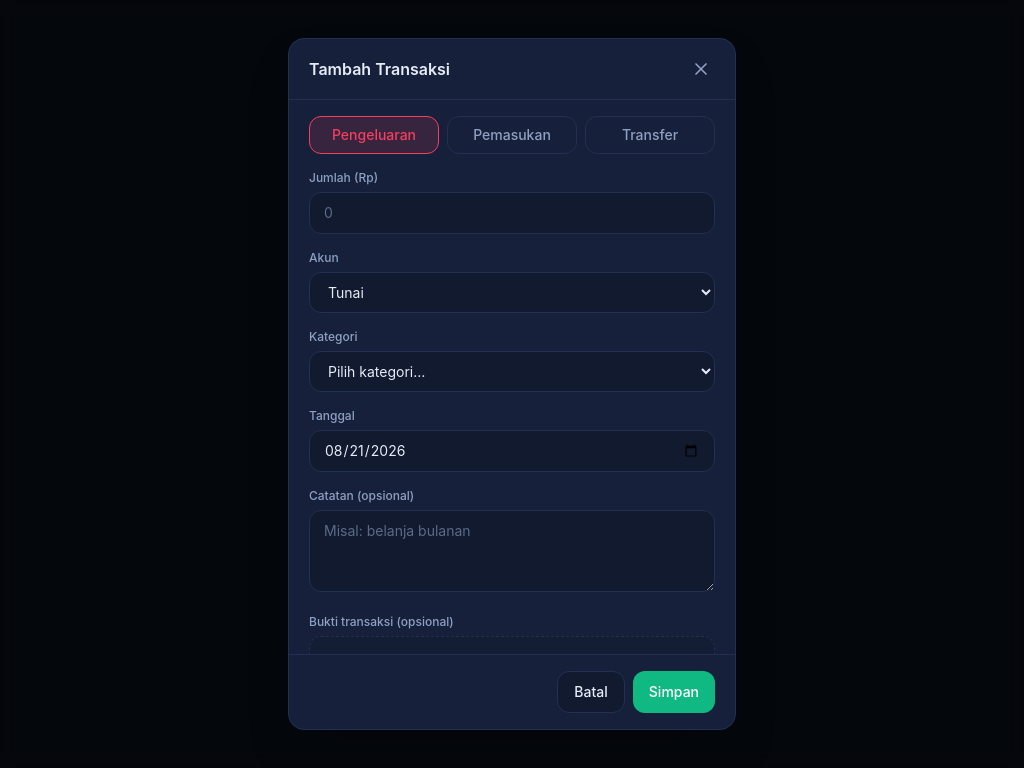
it: TransactionForm › submits a transfer with null category and receipt
Click the button "Transfer" at (650, 135), box [585,116,715,154]
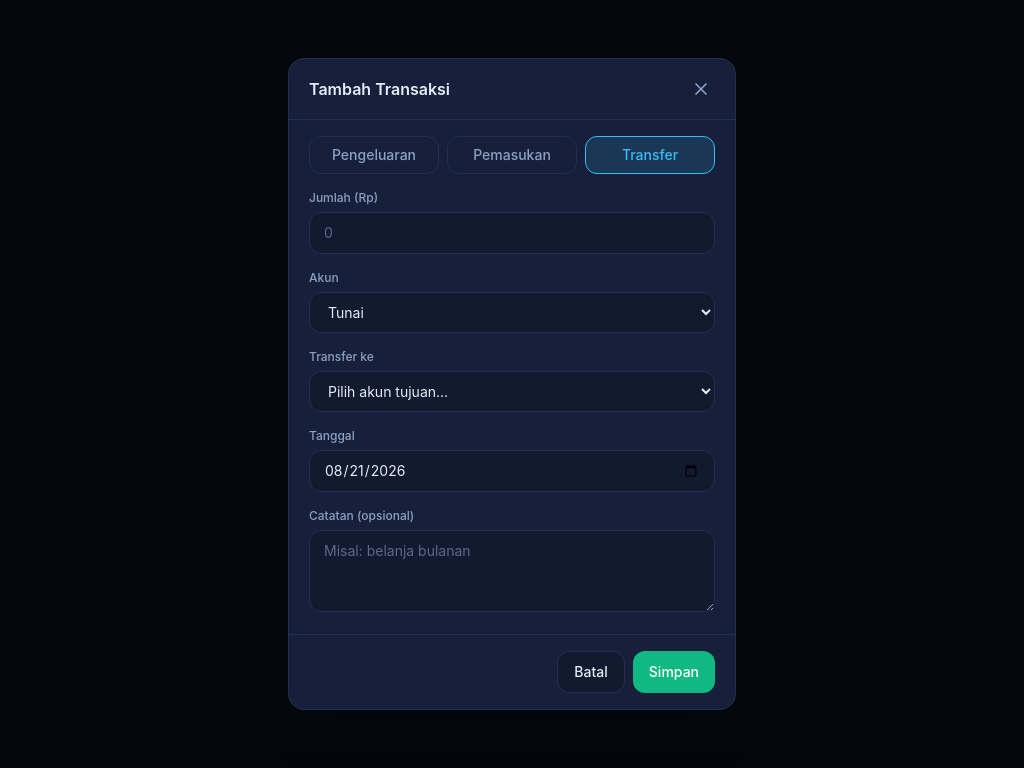
Type "500000" into the field labelled "Jumlah (Rp)" at (512, 233), box [309,212,715,254]
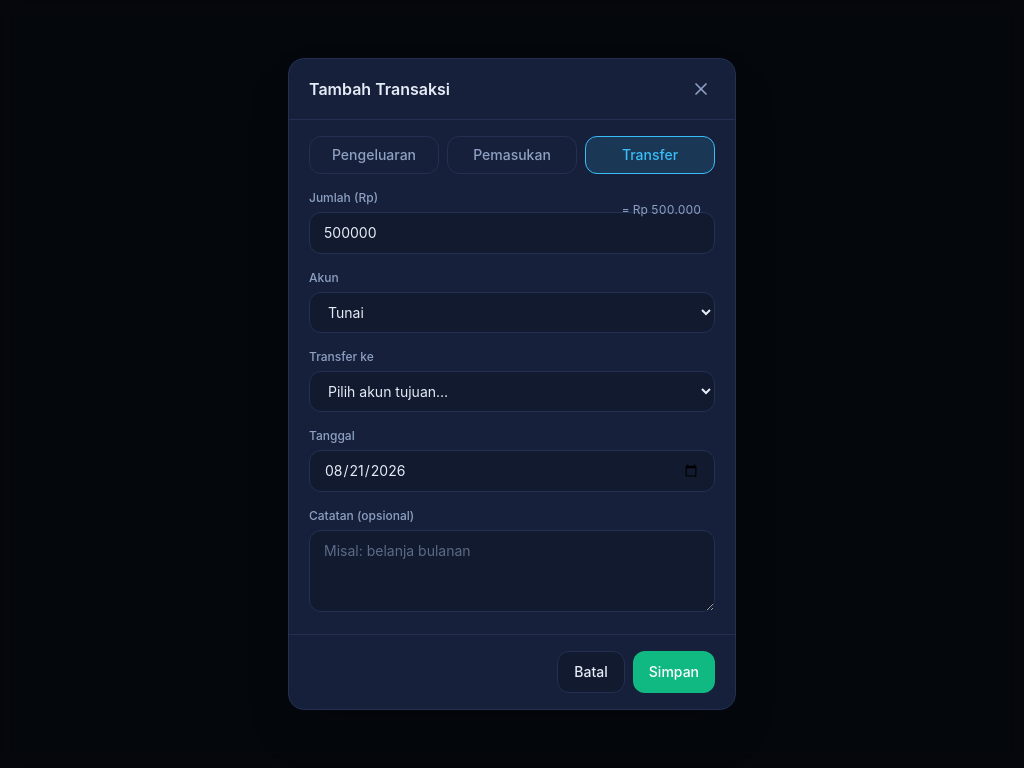
Select "BCA" in the dropdown labelled "Transfer ke" at (512, 392), box [309,371,715,412]
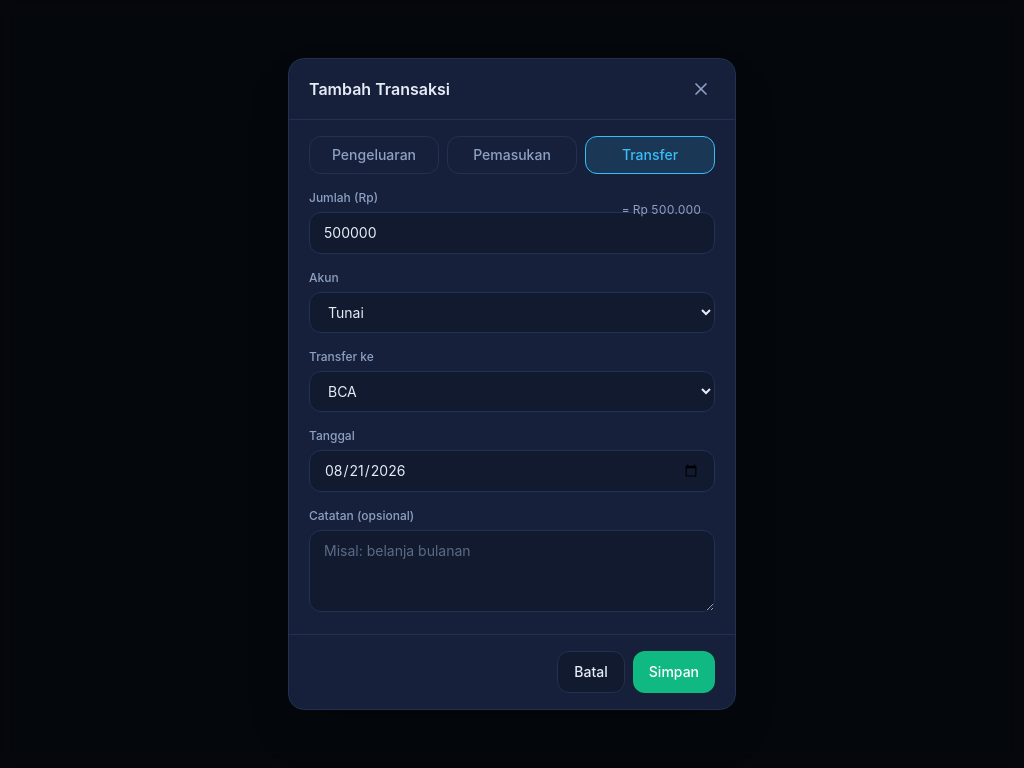
Submit the form with id "tx-form", box [309,136,715,618]
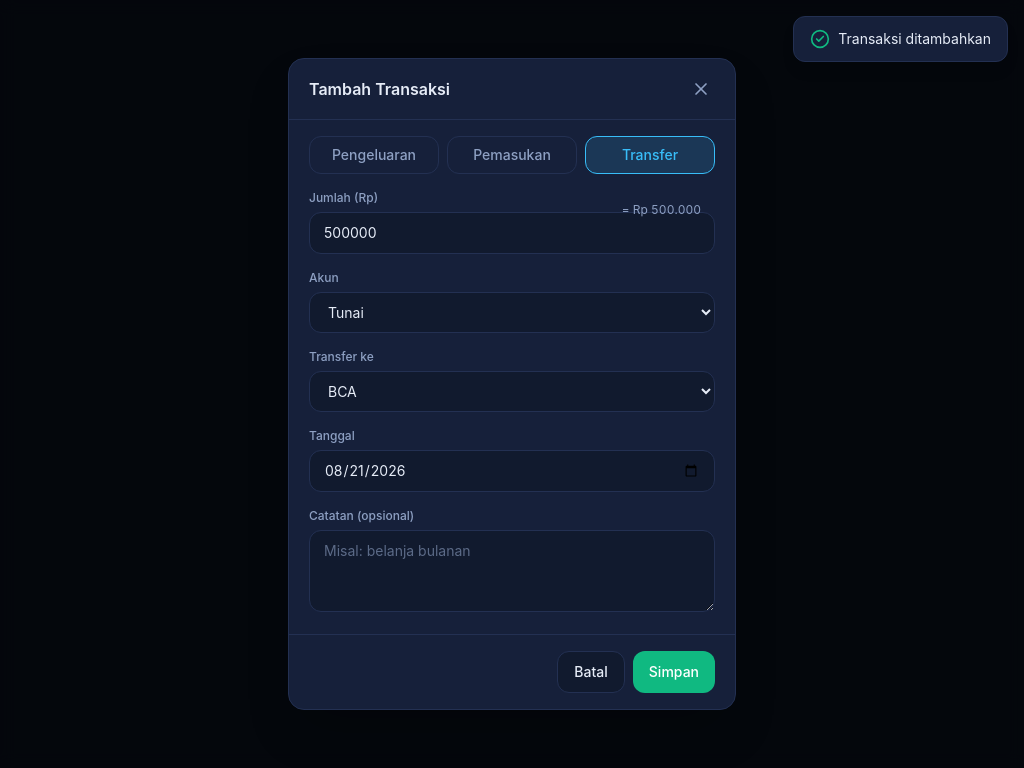
Check: the text "Transaksi ditambahkan" is shown, box [838,29,991,49]
